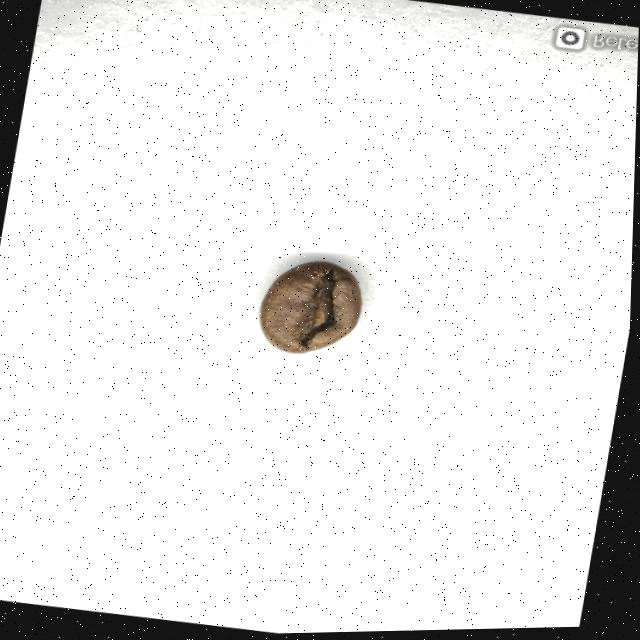Good bean: (254, 256, 371, 364)
